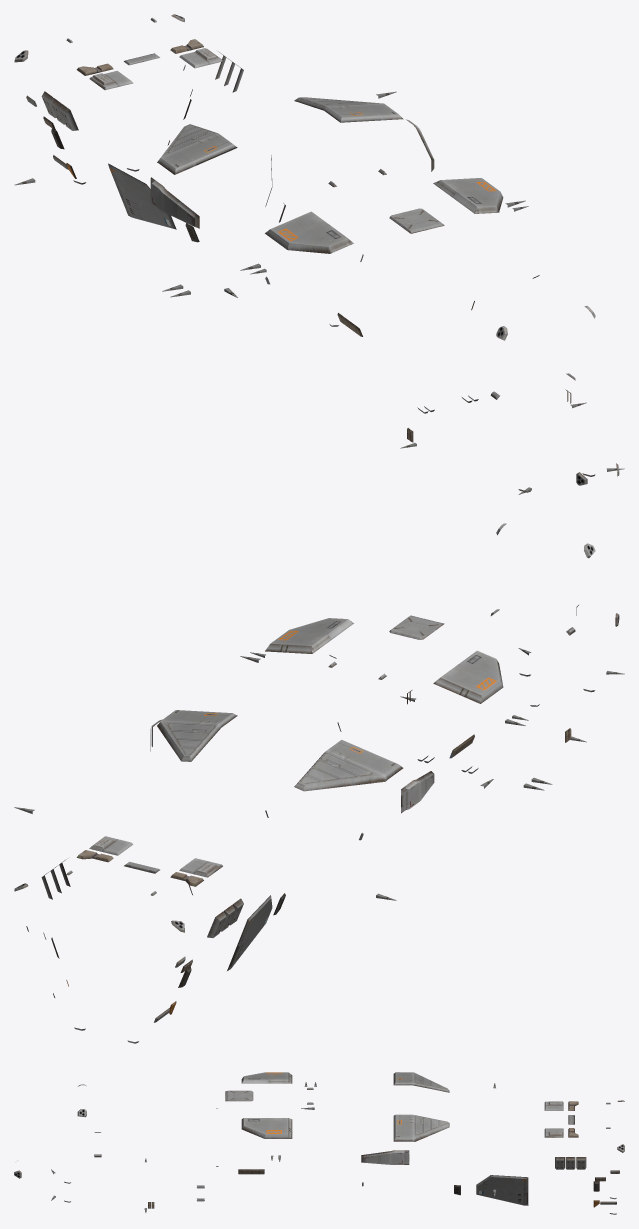
The model's file is hgn_cd_dest_01_t4.glb.
3 renders of one model, top to bottom at view 1: azimuth 30°, elevation 25°; view 2: azimuth 150°, elevation 25°; view 3: azimuth 270°, elevation 25°, orthographic. The views are drawn at different scales.
Visible parts, largest first — view 1: hgn_destroyer_01_t4_LOD0; view 2: hgn_destroyer_01_t4_LOD0; view 3: hgn_destroyer_01_t4_LOD0.
Boxes of the visible parts, box(x1,y1,x2,y2) form: hgn_destroyer_01_t4_LOD0: box(14, 14, 624, 494); hgn_destroyer_01_t4_LOD0: box(14, 523, 624, 1043); hgn_destroyer_01_t4_LOD0: box(14, 1072, 624, 1214).
Size of what is drawn, in the model's own units: 3.65 by 1.67 by 8.35.
1 material, 1 textured.
